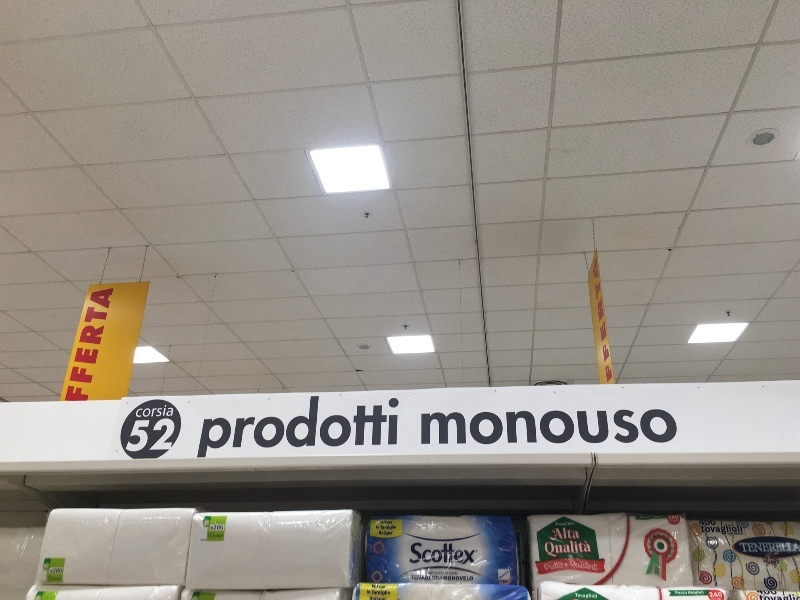text: (65, 285, 80, 410), (81, 285, 96, 410), (97, 285, 112, 410), (597, 252, 608, 387), (209, 392, 224, 460), (225, 392, 240, 460), (241, 392, 256, 460), (257, 392, 272, 460), (273, 392, 288, 460), (289, 392, 304, 460), (305, 392, 320, 460), (321, 392, 336, 460), (337, 392, 352, 460), (353, 392, 368, 460), (369, 392, 384, 460), (385, 392, 400, 460), (609, 252, 614, 387), (433, 409, 448, 447), (449, 409, 464, 447), (465, 409, 480, 447), (481, 409, 496, 447), (497, 409, 512, 447), (513, 409, 528, 447), (529, 409, 544, 447), (545, 409, 560, 447), (561, 409, 576, 447), (577, 409, 592, 447), (593, 409, 608, 447), (609, 409, 624, 447), (625, 409, 640, 447), (641, 409, 656, 447), (657, 409, 672, 447), (161, 419, 177, 454), (145, 419, 160, 454), (421, 409, 432, 447), (113, 285, 116, 410), (417, 543, 432, 565), (433, 543, 448, 565), (449, 543, 464, 565), (545, 538, 560, 560), (561, 538, 576, 560), (577, 538, 592, 560), (136, 419, 144, 454), (62, 285, 64, 410), (465, 543, 476, 565), (145, 404, 160, 419), (369, 585, 384, 600), (161, 404, 175, 419), (561, 527, 576, 541), (705, 523, 720, 536), (721, 523, 736, 536), (385, 521, 398, 536), (545, 560, 560, 573), (673, 409, 678, 447), (577, 561, 592, 572), (753, 543, 768, 553), (769, 543, 784, 553), (785, 543, 800, 553), (550, 527, 560, 541), (738, 543, 752, 553), (385, 585, 394, 600), (410, 543, 416, 565), (417, 574, 432, 582), (376, 521, 384, 536), (449, 575, 464, 582), (737, 523, 745, 536), (689, 590, 705, 596), (211, 524, 224, 531), (51, 568, 64, 575), (433, 570, 448, 576), (577, 593, 592, 599), (705, 519, 717, 526), (433, 574, 443, 582), (675, 590, 688, 596), (561, 521, 574, 527), (709, 592, 720, 599), (139, 404, 144, 419), (641, 515, 656, 520), (570, 561, 576, 572), (593, 561, 599, 572), (465, 575, 474, 582), (577, 527, 581, 541), (449, 570, 458, 576), (561, 560, 565, 573), (365, 585, 368, 600), (593, 538, 595, 560), (411, 574, 416, 582), (657, 515, 665, 520), (701, 523, 704, 536), (426, 570, 432, 576), (673, 515, 679, 521), (443, 575, 448, 582), (699, 519, 704, 526), (593, 593, 598, 599), (542, 560, 544, 573), (668, 515, 672, 521), (556, 521, 560, 527), (543, 538, 544, 560), (721, 592, 723, 599), (639, 515, 640, 520)
